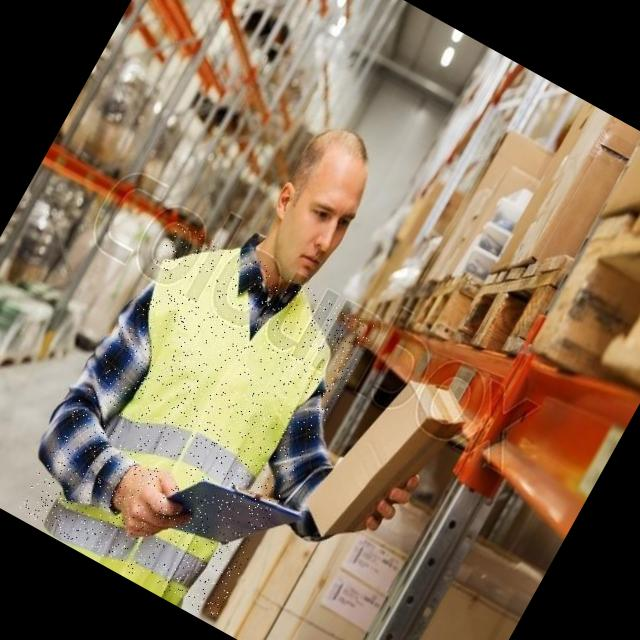safety_vest: (17, 217, 377, 621)
